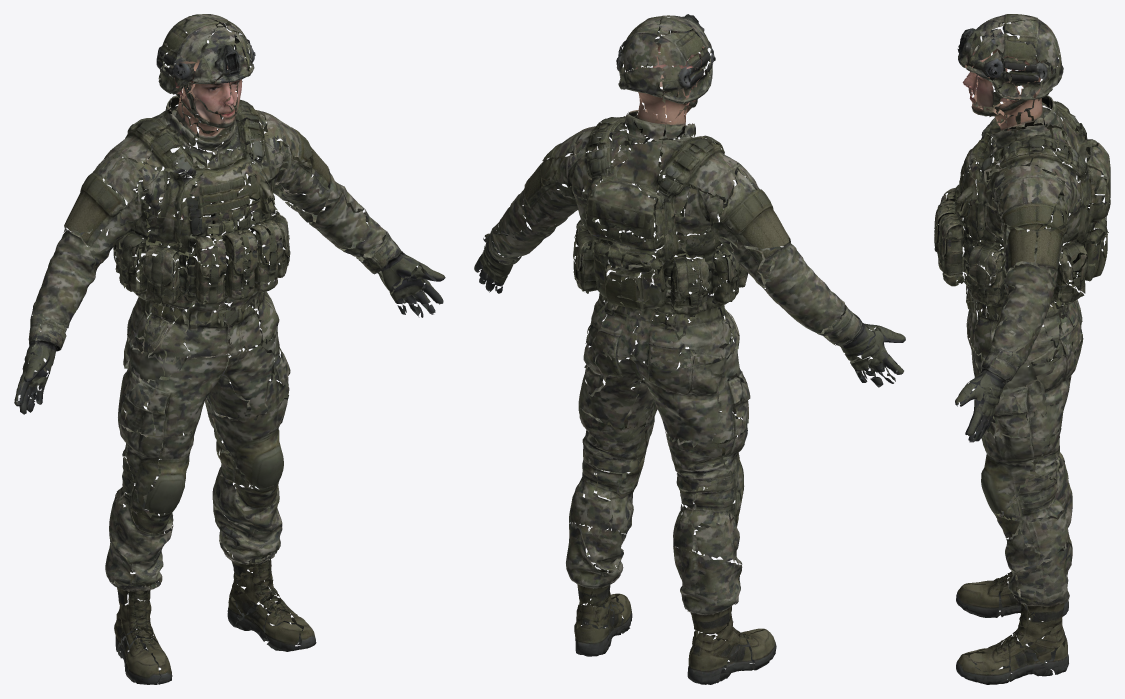
Rendered from phantom.glb.
3 views of the same model, side by side, from view 1: azimuth 30°, elevation 25°; view 2: azimuth 150°, elevation 25°; view 3: azimuth 270°, elevation 25° (orthographic).
Parts seen in each view (by area): view 1: hero; view 2: hero; view 3: hero.
Part boxes in pixels (x1,y1,x2,y2): hero: (14,14,445,684); hero: (474,14,905,684); hero: (934,14,1110,684).
Size of the model in its own units: 1.27 by 1.8 by 0.4612.
1 material, 1 textured.
